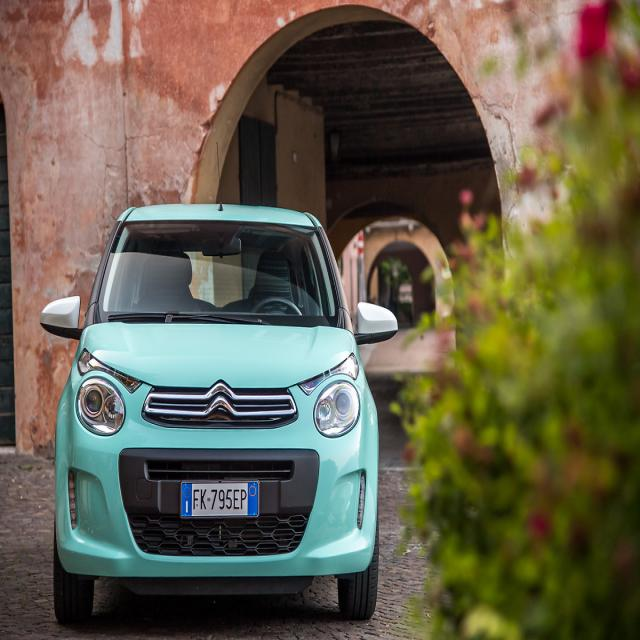yolov7-seg-car: (39, 140, 399, 623)
